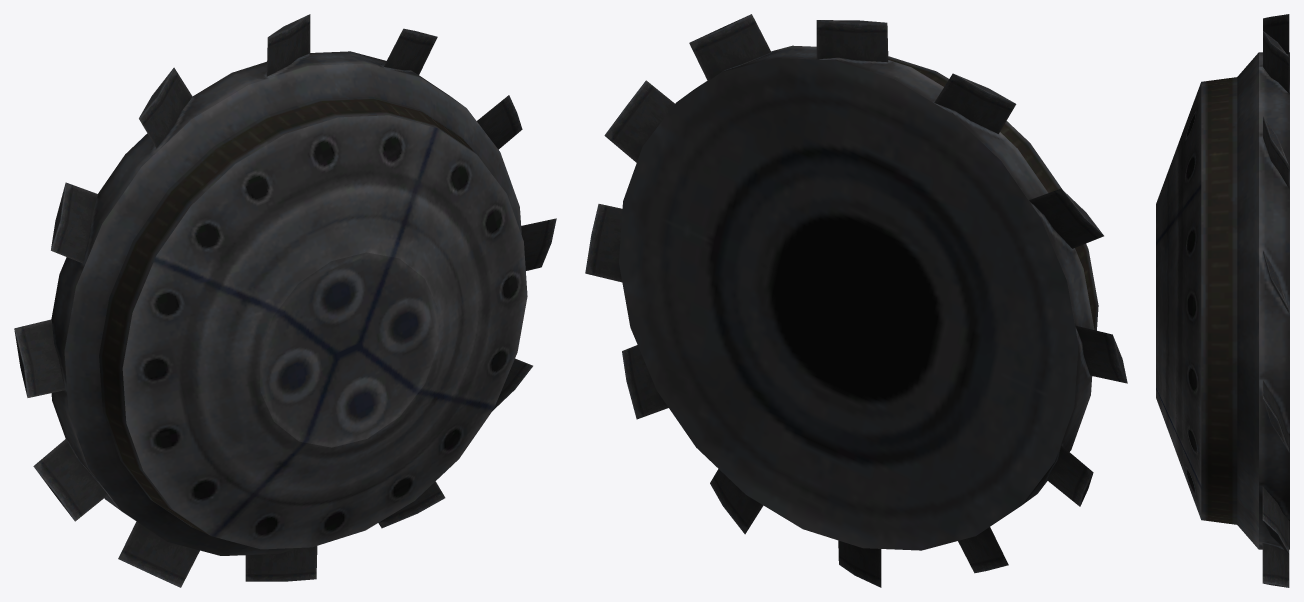
Rendered from t6_wpn_bouncing_betty_world_LOD1.obj.
The picture shows the model from 3 angles, left to right: view 1: azimuth 30°, elevation 25°; view 2: azimuth 150°, elevation 25°; view 3: azimuth 270°, elevation 25°; orthographic projection. The views are drawn at different scales.
Parts seen in each view (by area): view 1: mtl_t6_wpn_bouncing_betty; view 2: mtl_t6_wpn_bouncing_betty; view 3: mtl_t6_wpn_bouncing_betty.
Part boxes in pixels (left/top/right/bottom): mtl_t6_wpn_bouncing_betty: left=14, top=14, right=556, bottom=587; mtl_t6_wpn_bouncing_betty: left=585, top=14, right=1127, bottom=587; mtl_t6_wpn_bouncing_betty: left=1156, top=14, right=1289, bottom=587.
Bounding box in the file's own units: 35.03 × 35.03 × 8.2.
